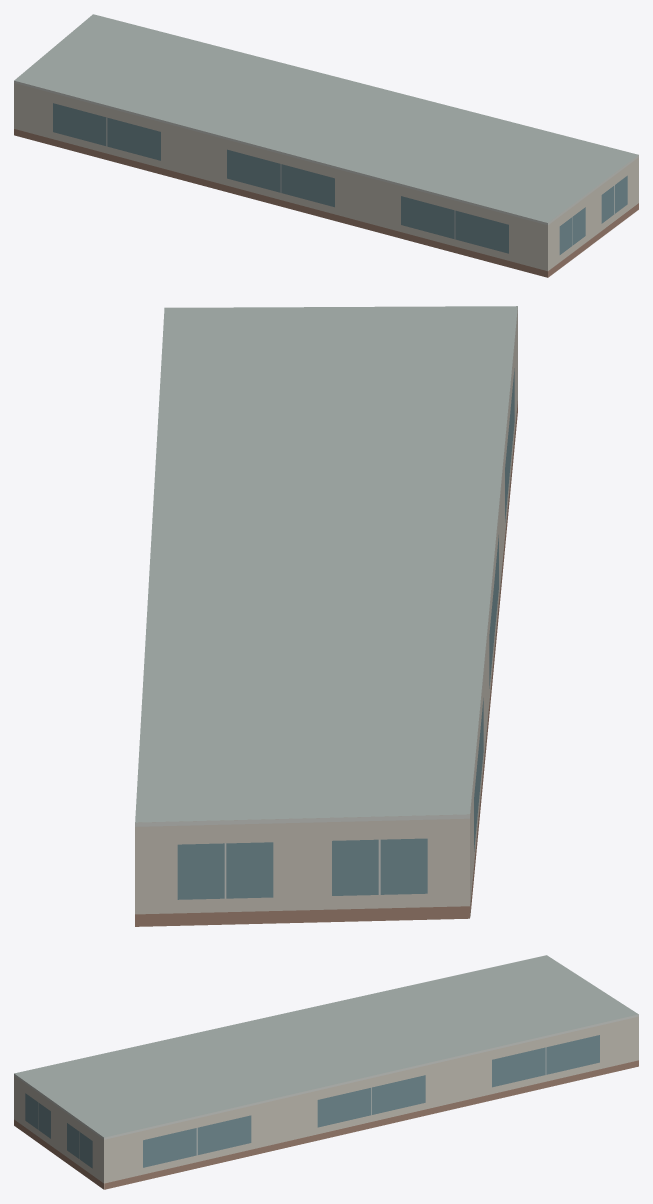
The model's file is survey-upis-32784790.glb.
3 renders of one model, top to bottom at view 1: azimuth 30°, elevation 25°; view 2: azimuth 150°, elevation 25°; view 3: azimuth 270°, elevation 25°, orthographic. The views are drawn at different scales.
Parts seen in each view (by area): view 1: survey-upis-32784790.tmp; view 2: survey-upis-32784790.tmp; view 3: survey-upis-32784790.tmp.
Boxes of the visible parts, left/top/right/bottom form: survey-upis-32784790.tmp: left=14, top=14, right=638, bottom=277; survey-upis-32784790.tmp: left=135, top=306, right=517, bottom=926; survey-upis-32784790.tmp: left=14, top=955, right=638, bottom=1189.
Size of the model in its own units: 22.92 by 3.05 by 33.14.
